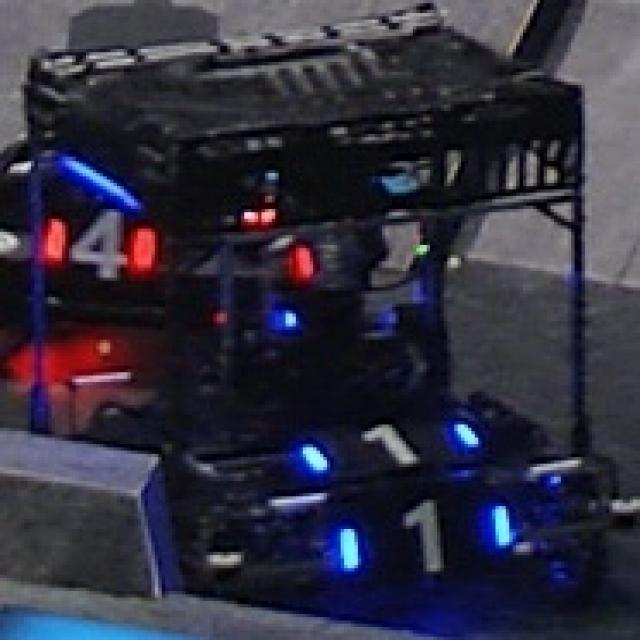B1: (327, 496, 513, 591), (292, 405, 478, 483)
R4: (31, 199, 162, 281)
